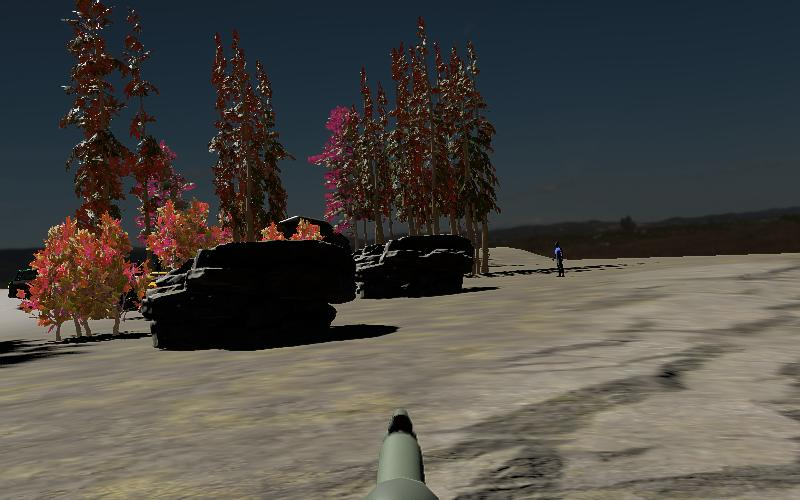Human: (551, 241, 566, 280)
